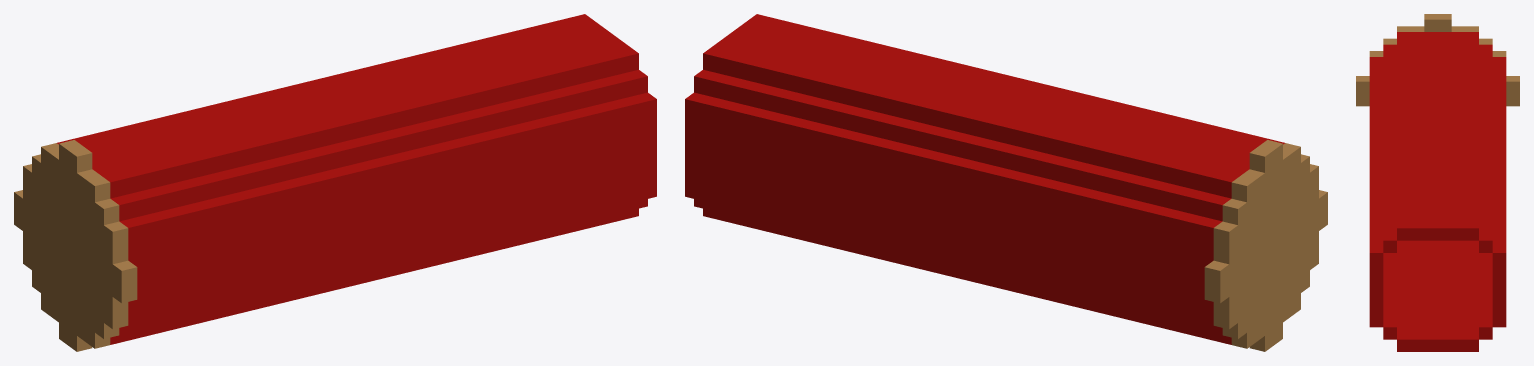
Rendered from case_12_h_gauge_h_00_h_buck.glb.
3 renders of one model, left to right at view 1: azimuth 30°, elevation 25°; view 2: azimuth 150°, elevation 25°; view 3: azimuth 270°, elevation 25°, orthographic. The views are drawn at different scales.
Parts seen in each view (by area): view 1: cartridge:cartridge-model; view 2: cartridge:cartridge-model; view 3: cartridge:cartridge-model.
Boxes of the visible parts, x1,y1,x2,y2 form: cartridge:cartridge-model: [14, 14, 656, 351]; cartridge:cartridge-model: [685, 14, 1327, 351]; cartridge:cartridge-model: [1356, 14, 1519, 351].
Bounding box in the file's own units: 0.07 × 0.024 × 0.024.
